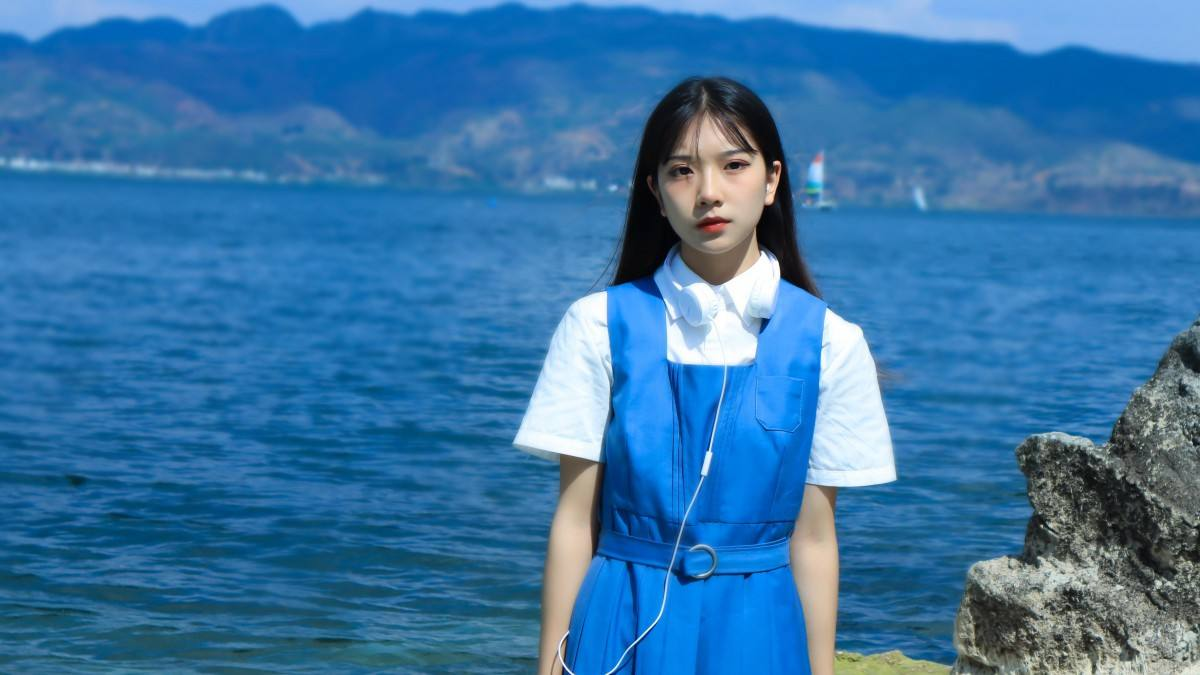person: (487, 75, 901, 675)
